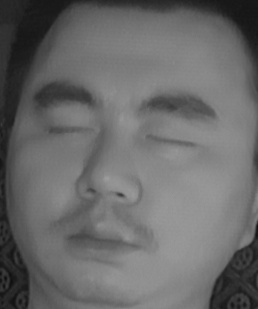blink: (46, 110, 97, 149), (147, 119, 195, 158)
mouth: (58, 207, 148, 262)
